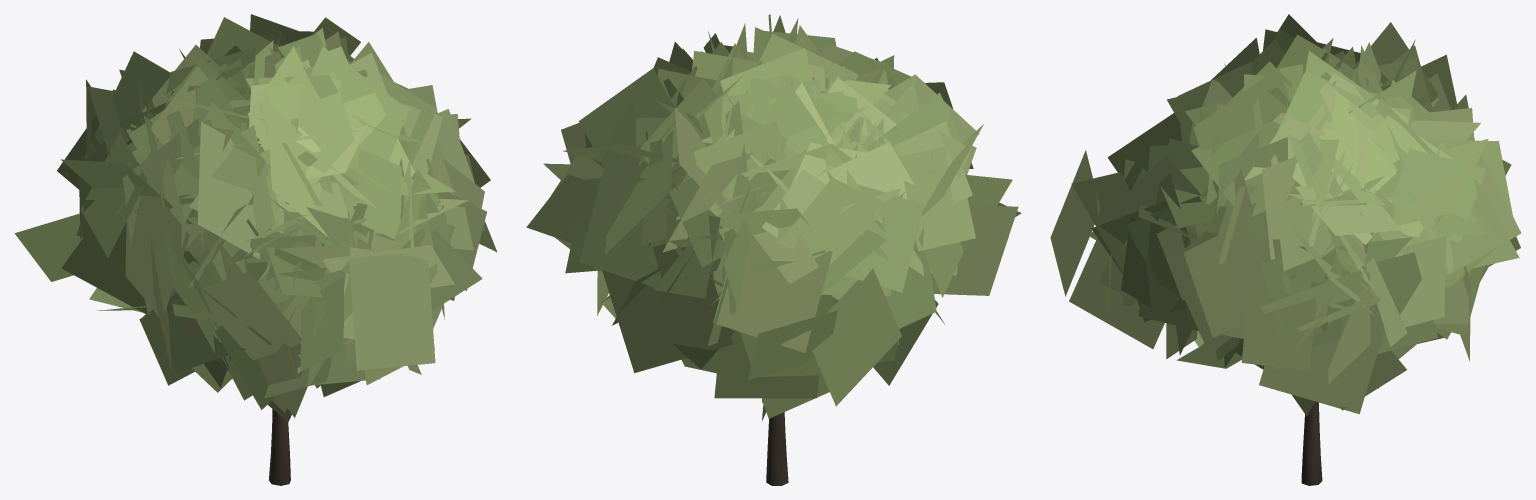
File: robinia_1.glb
3 views of the same model, side by side, from view 1: azimuth 30°, elevation 25°; view 2: azimuth 150°, elevation 25°; view 3: azimuth 270°, elevation 25° (orthographic). The views are drawn at different scales.
Visible parts, largest first — view 1: robinia_1; view 2: robinia_1; view 3: robinia_1.
Boxes of the visible parts, bbox=[...] form: robinia_1: bbox=[15, 14, 497, 485]; robinia_1: bbox=[526, 14, 1021, 485]; robinia_1: bbox=[1050, 14, 1521, 485].
Bounding box in the file's own units: 0.9411 × 1 × 1.
